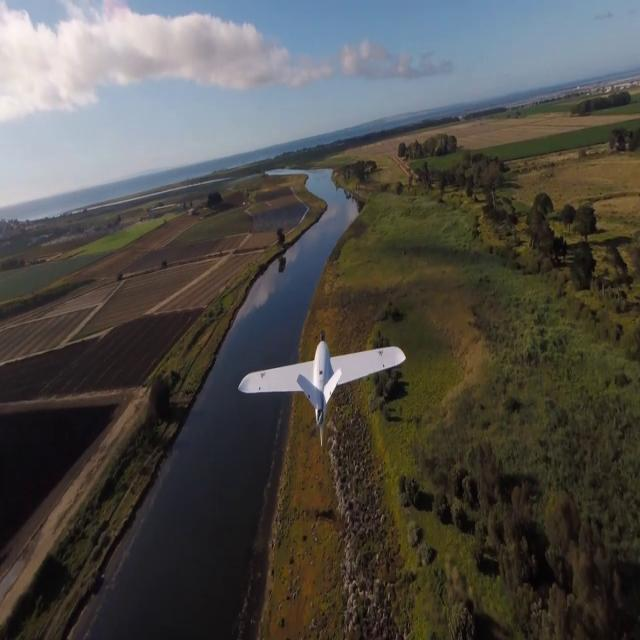iha: (239, 368, 410, 388)
